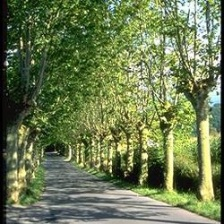neutral: (10, 2, 218, 224)
